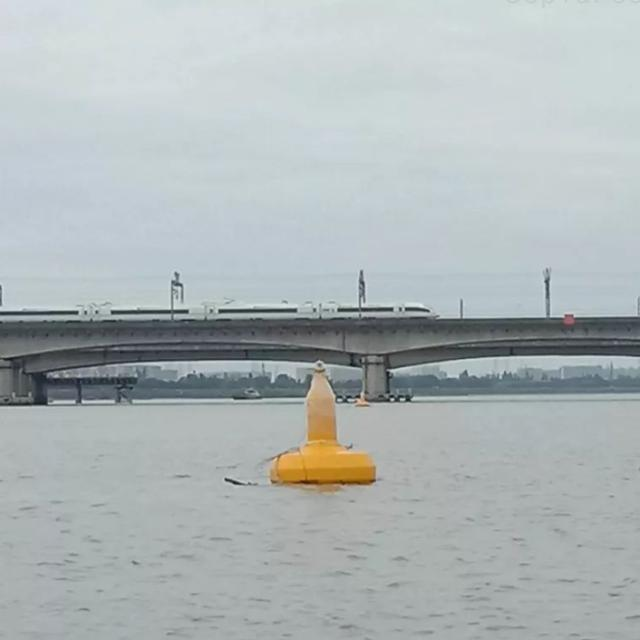buoy: (268, 356, 374, 489)
